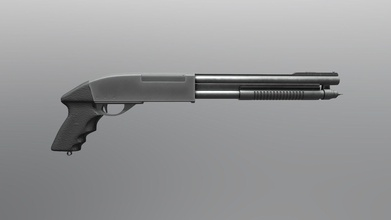weapon: (49, 73, 342, 158)
